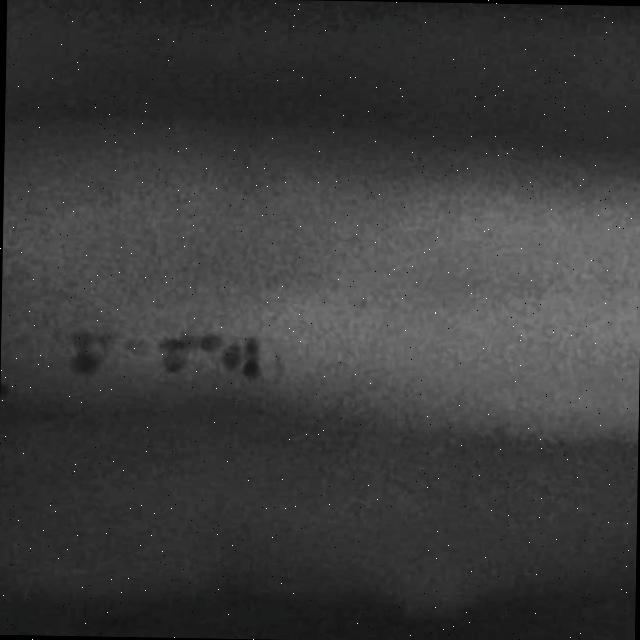Pore: (50, 300, 288, 402)
